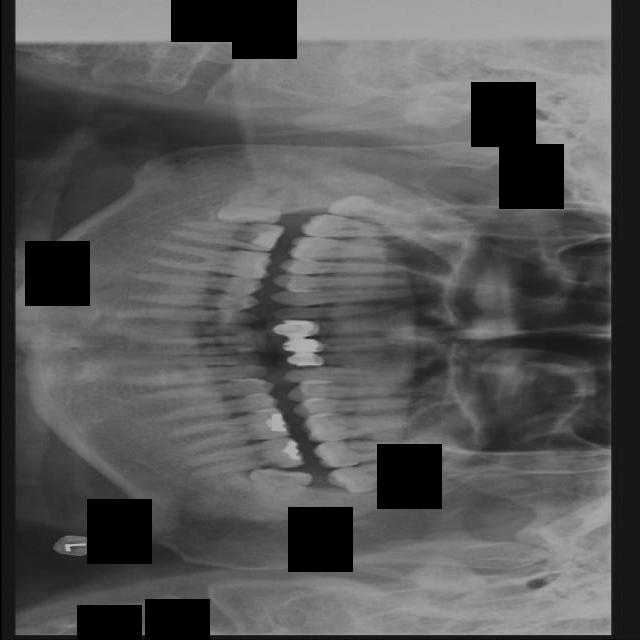3M ESPE Implant: (326, 191, 443, 228)
52: (270, 308, 334, 378), (261, 432, 303, 471), (249, 407, 289, 442), (244, 221, 287, 253), (259, 464, 278, 469)
73: (24, 620, 28, 628)
BioHorizons Implant: (312, 434, 451, 469)
BioLife Implant: (324, 446, 468, 499)
Biomet 3i Implant: (249, 468, 312, 513)
Blue Sky Bio Implant: (180, 433, 304, 482)
Caries: (298, 213, 425, 240)
Implant: (169, 220, 286, 252)
Keystone Dental Implant: (213, 182, 294, 230)
